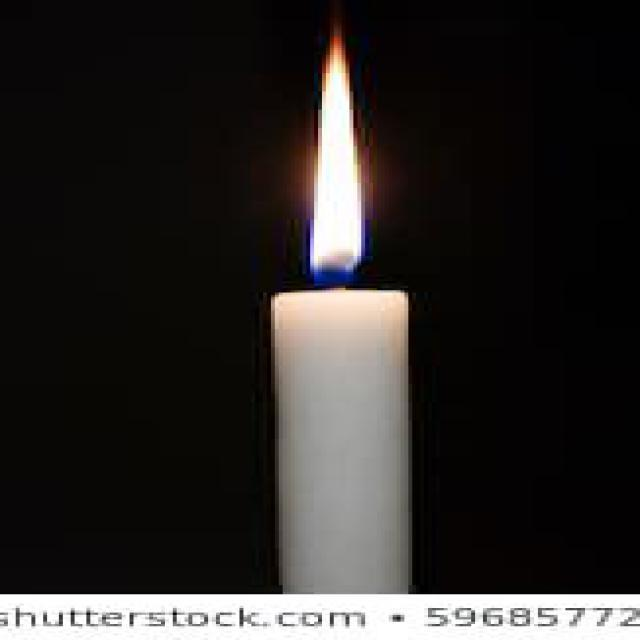Fire: (312, 17, 363, 287)
